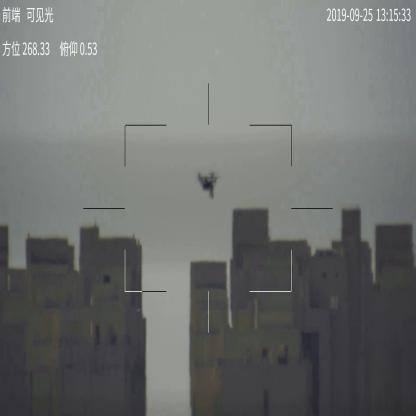uav: (196, 170, 221, 199)
